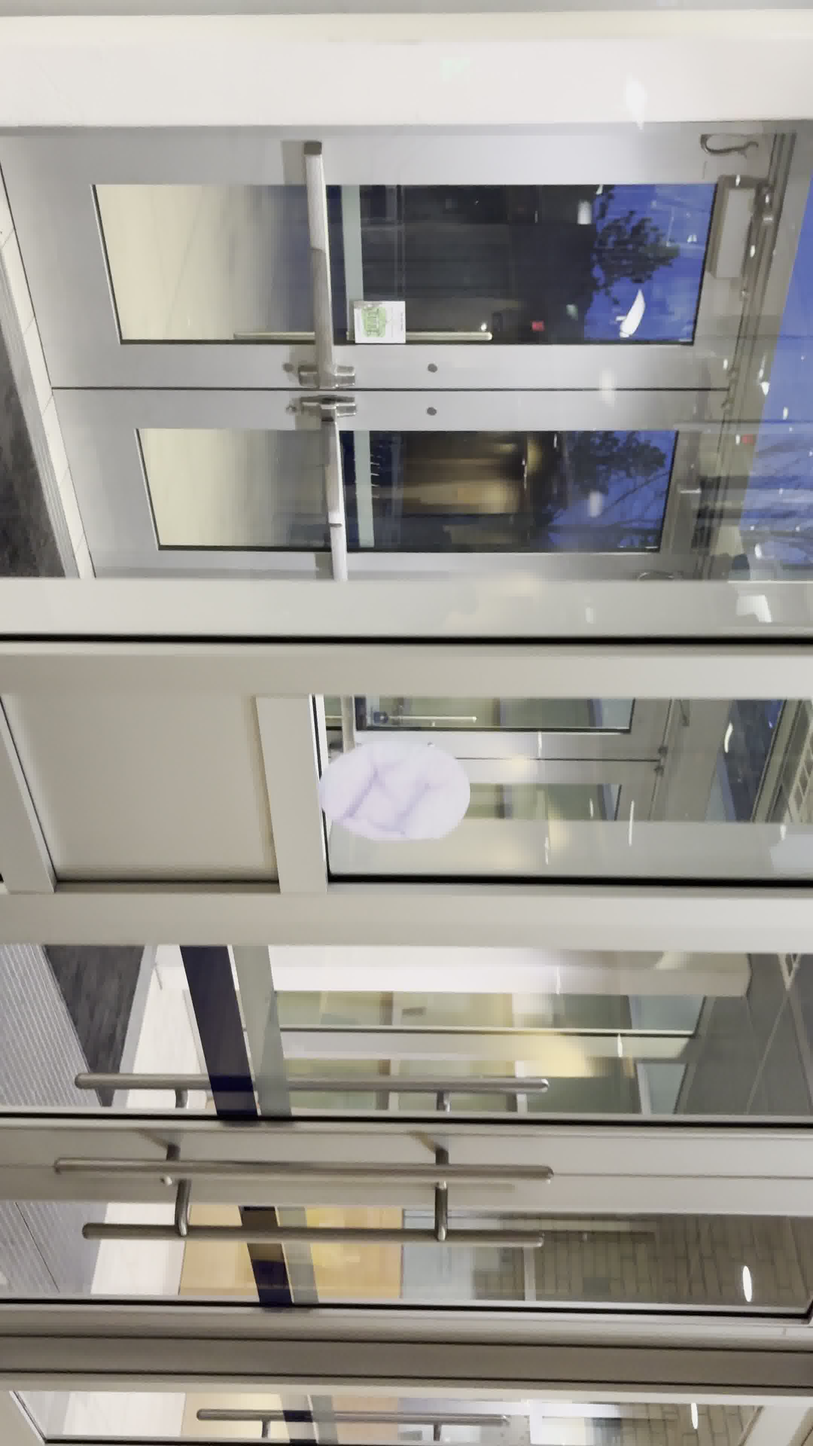Target: (314, 741, 472, 843)
